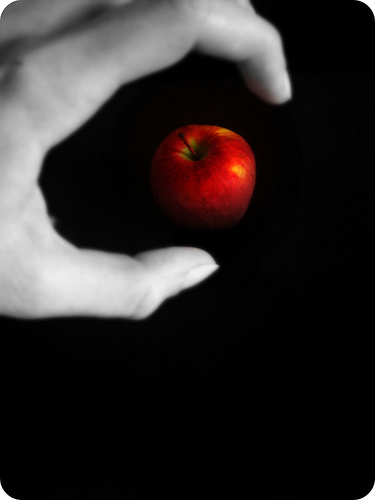apple: (148, 122, 257, 225)
